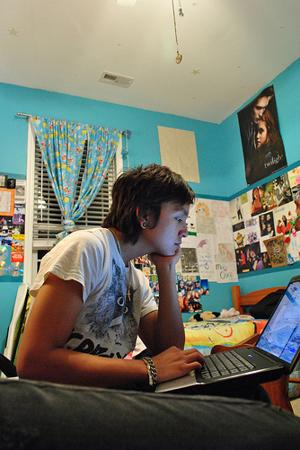person: (14, 165, 204, 395)
